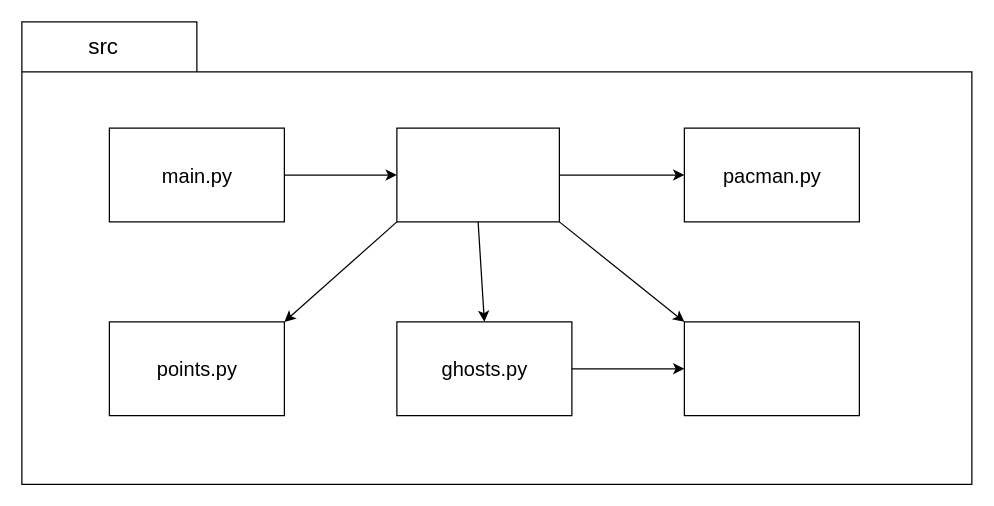
This 994x506 diagram has some shape labels left out. Here are the shapes that lost their labels. From the top down, the centre of each, then its label:
point (477, 174): game.py
point (771, 368): walls.py
